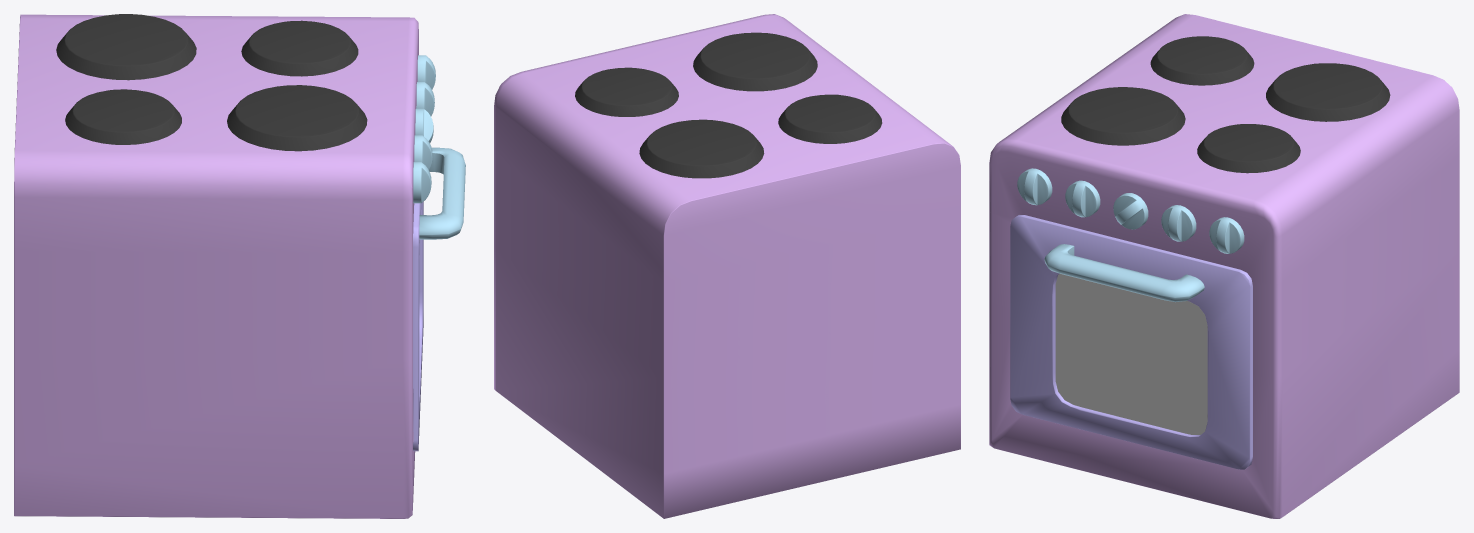
The model's file is uuni2.fbx.
The picture shows the model from 3 angles, left to right: view 1: azimuth 30°, elevation 25°; view 2: azimuth 150°, elevation 25°; view 3: azimuth 270°, elevation 25°; orthographic projection. The views are drawn at different scales.
Parts seen in each view (by area): view 1: uuni.001, luukku.001; view 2: uuni.001; view 3: uuni.001, luukku.001.
Boxes of the visible parts, x1,y1,x2,y2 form: uuni.001: (14,14,435,518); luukku.001: (413,147,465,451); uuni.001: (494,14,960,518); uuni.001: (989,14,1459,518); luukku.001: (1010,215,1252,469).
Bounding box in the file's own units: 1.6 × 1.19 × 1.58.
